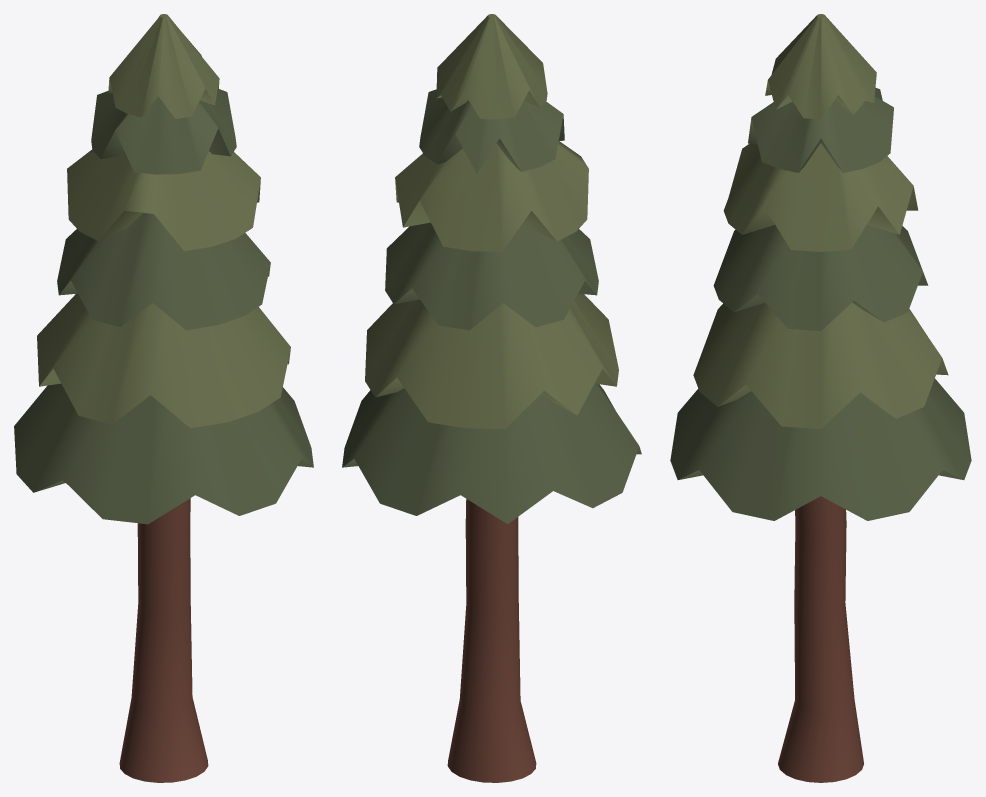
The model's file is tree1 (1).fbx.
3 views of the same model, side by side, from view 1: azimuth 30°, elevation 25°; view 2: azimuth 150°, elevation 25°; view 3: azimuth 270°, elevation 25° (orthographic).
Parts seen in each view (by area): view 1: pCylinder7, pCylinder1, pCylinder3, trunk, pCylinder4, pCylinder5, pCylinder6; view 2: pCylinder7, pCylinder1, trunk, pCylinder3, pCylinder4, pCylinder6, pCylinder5; view 3: pCylinder7, pCylinder1, trunk, pCylinder3, pCylinder4, pCylinder5, pCylinder6.
Boxes of the visible parts, x1,y1,x2,y2 form: pCylinder7: (14, 383, 313, 524); pCylinder1: (37, 293, 290, 428); pCylinder3: (57, 213, 270, 330); trunk: (119, 498, 208, 782); pCylinder4: (67, 149, 260, 251); pCylinder5: (91, 89, 236, 174); pCylinder6: (108, 14, 219, 118); pCylinder7: (342, 383, 641, 524); pCylinder1: (365, 293, 618, 429); trunk: (447, 499, 536, 782); pCylinder3: (385, 222, 598, 330); pCylinder4: (395, 141, 588, 251); pCylinder6: (436, 14, 547, 119); pCylinder5: (419, 89, 564, 173); pCylinder7: (670, 378, 971, 520); pCylinder1: (693, 302, 948, 428); trunk: (778, 496, 863, 782); pCylinder3: (713, 225, 928, 330); pCylinder4: (723, 143, 918, 251); pCylinder5: (748, 88, 893, 172); pCylinder6: (765, 14, 876, 119).
Bounding box in the file's own units: 10.07 × 27.6 × 10.07.
